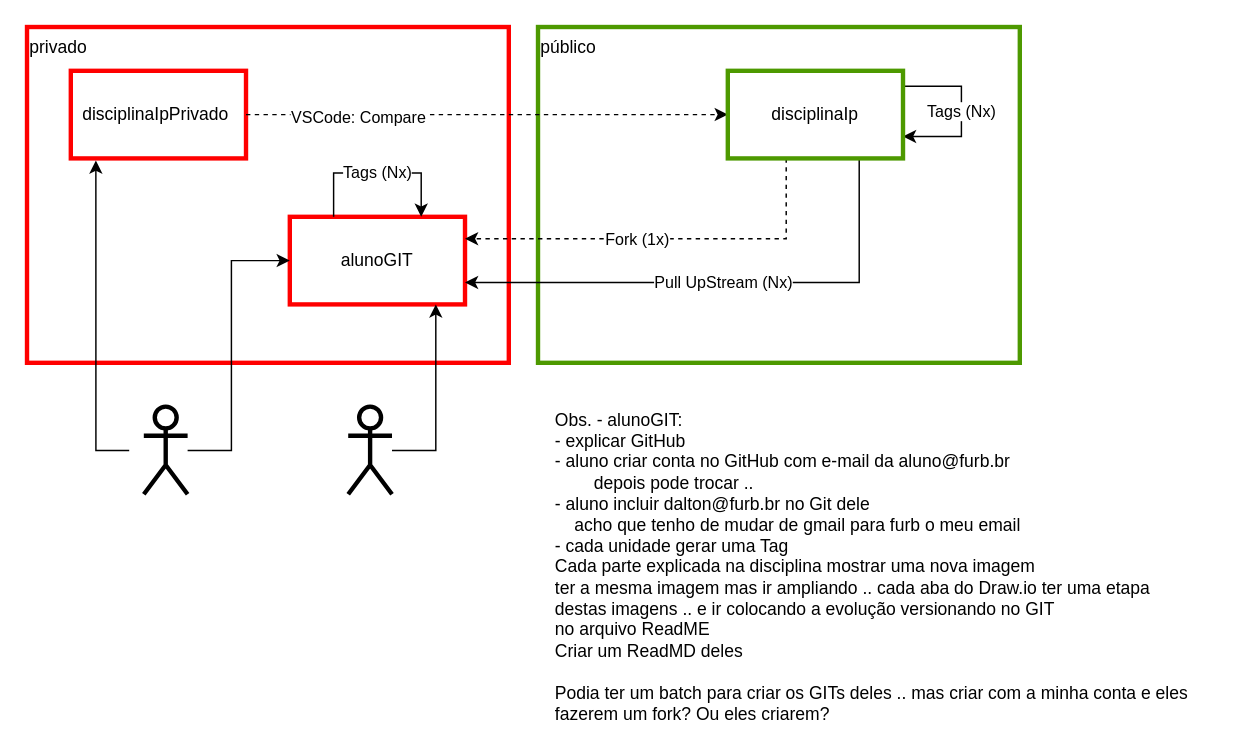
The diagram is 1235 pixels wide and 753 high, and some of its shapes have lost their labels. Here are the shapes that lost their labels. From the top down, the centre of each, then its label:
pixel 165 450: Professor
pixel 369 450: Aluno
